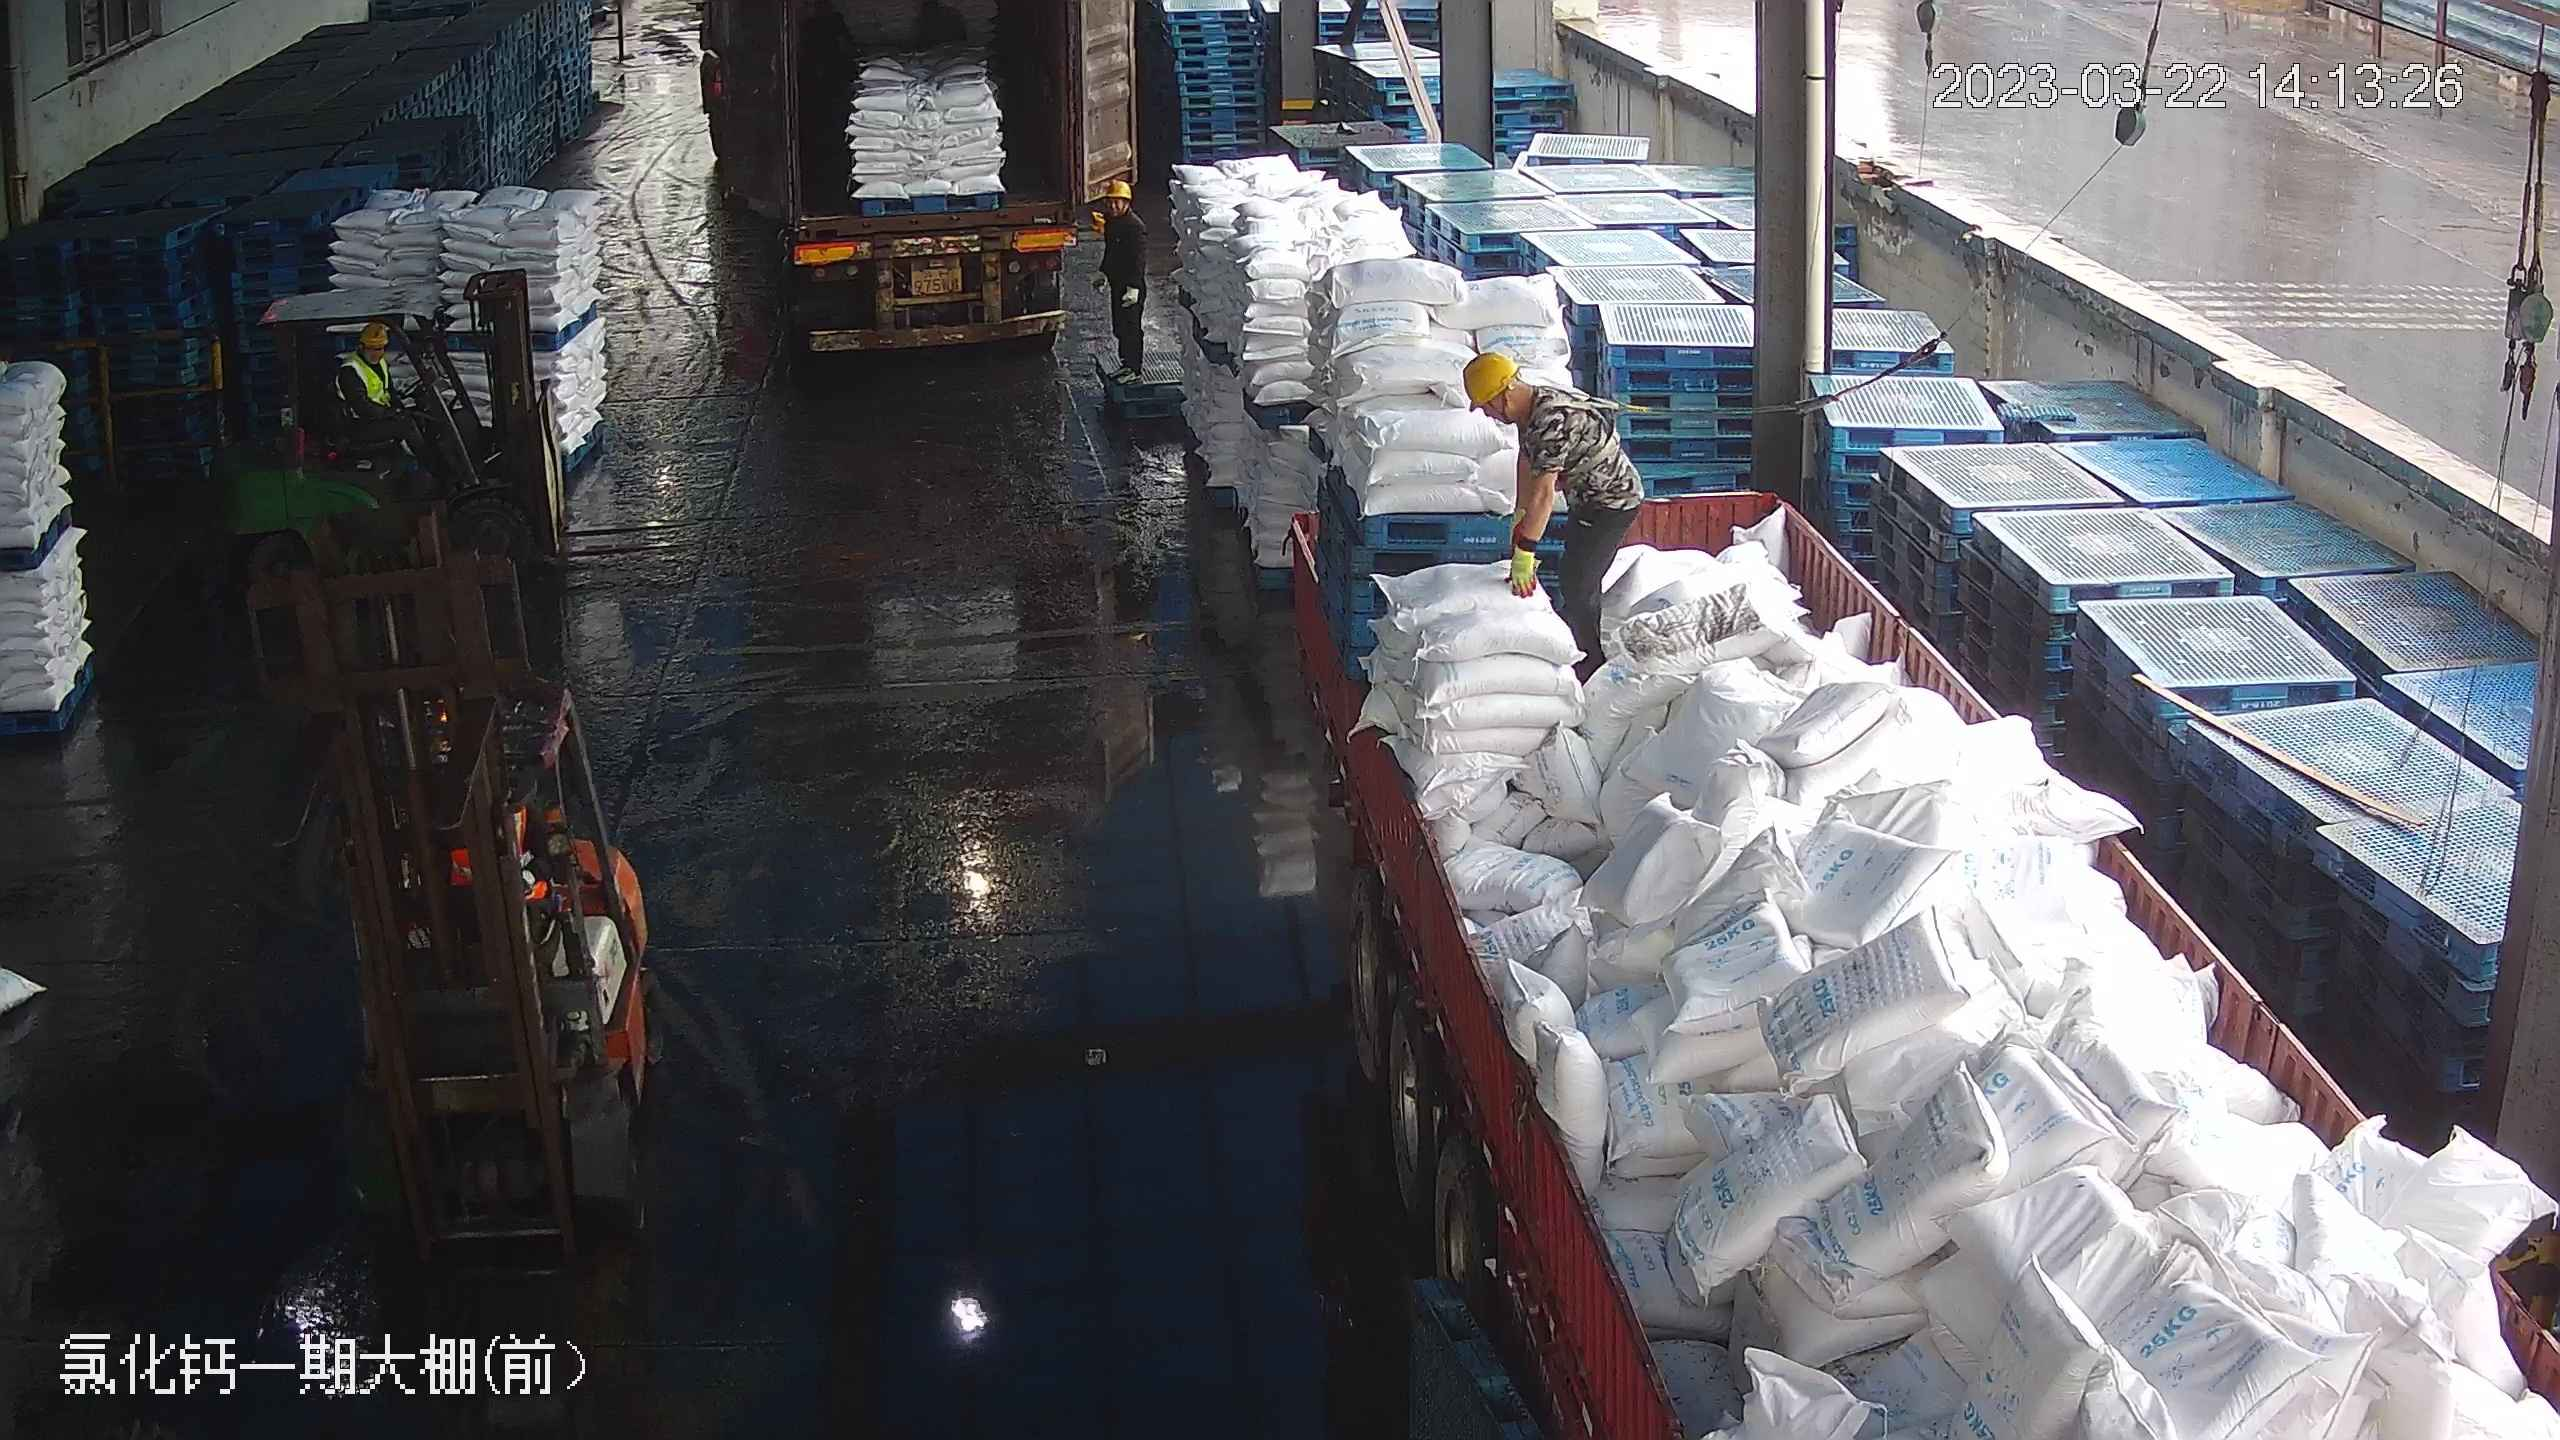belt: (1524, 388, 1629, 481)
head: (1464, 348, 1594, 448), (343, 320, 399, 391), (1092, 177, 1146, 242)
helmet: (1459, 348, 1522, 407), (1097, 175, 1133, 201), (360, 324, 394, 349)
people: (1461, 345, 1646, 690), (338, 316, 444, 476), (1091, 175, 1152, 378)
truck: (1248, 463, 2545, 1440), (744, 1, 1092, 352)
